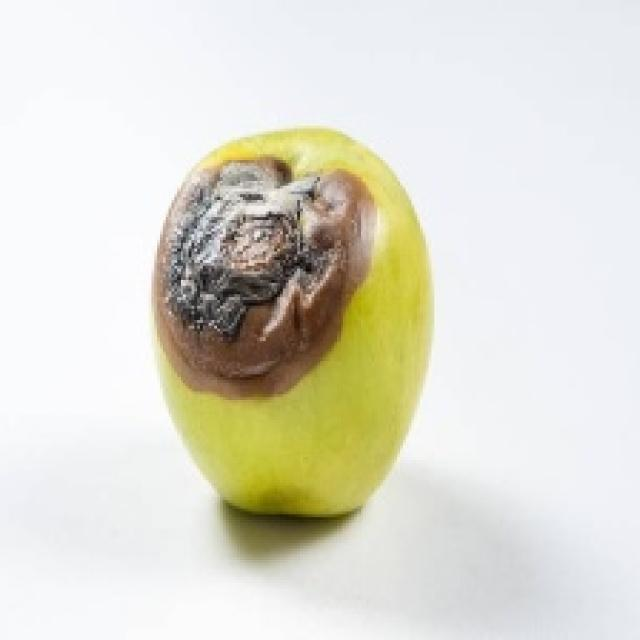rotten_apple: (154, 130, 429, 514)
